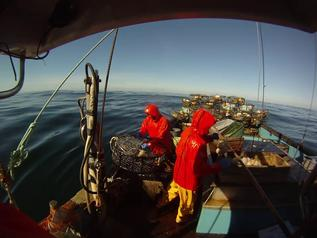hands_up: (170, 128, 202, 223)
sit: (139, 101, 173, 164)
